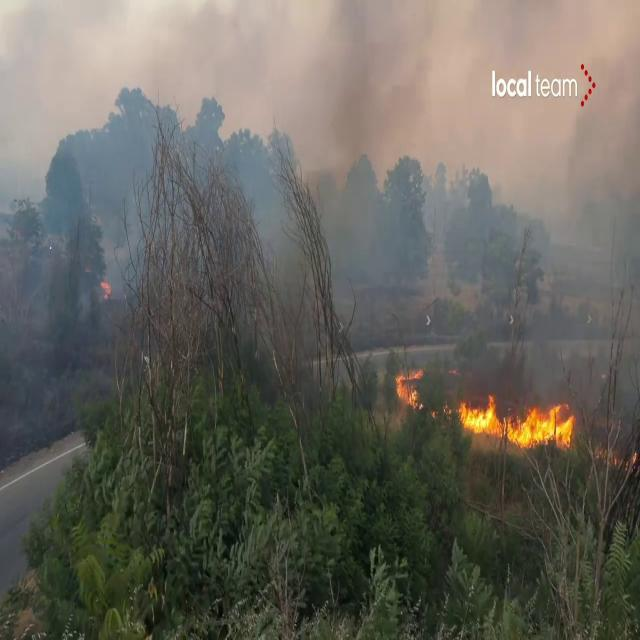Fire: (452, 380, 580, 452), (390, 360, 428, 416)
Smoke: (257, 0, 640, 342)
